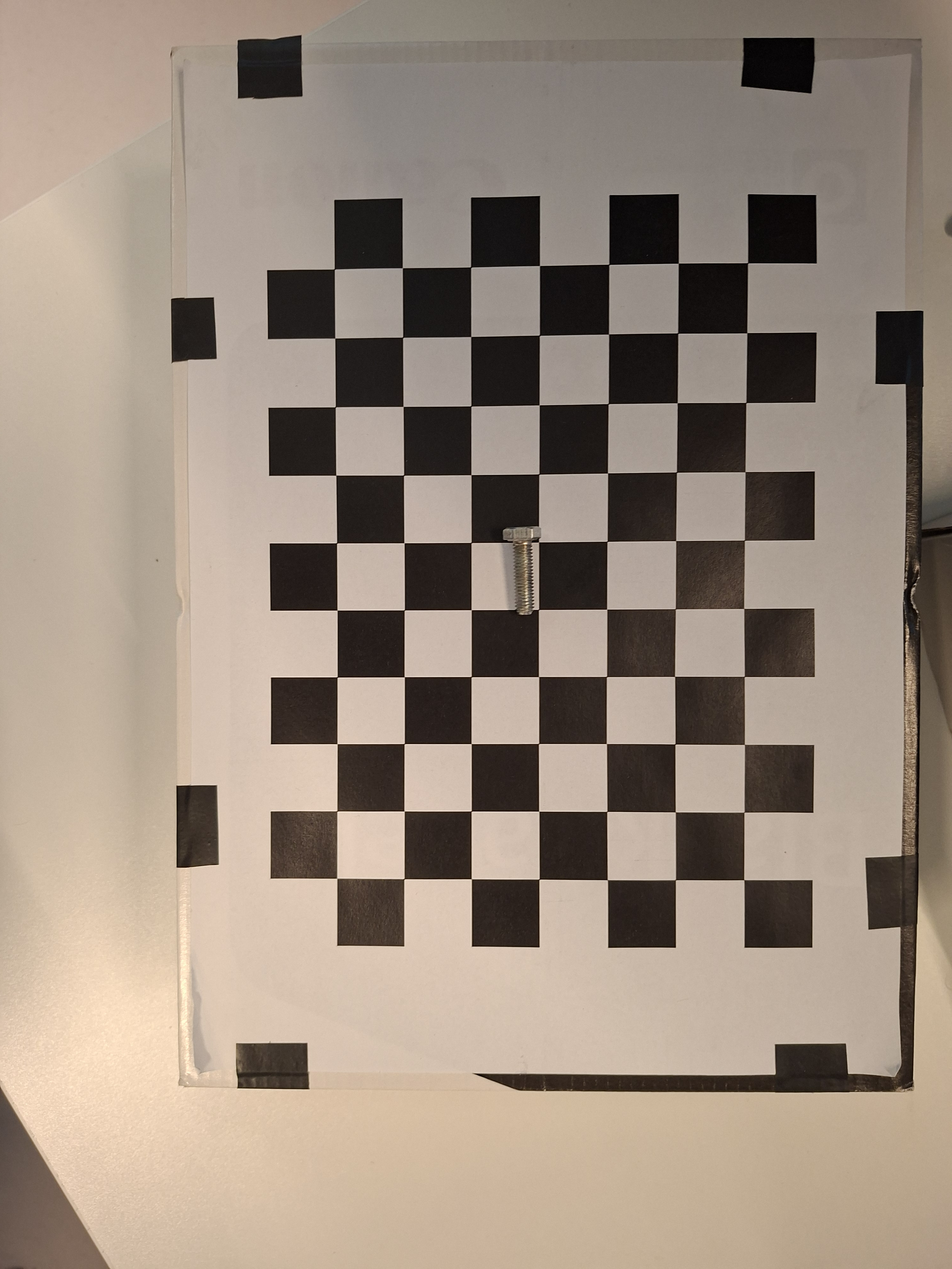hex_bolt: (495, 519, 554, 619)
